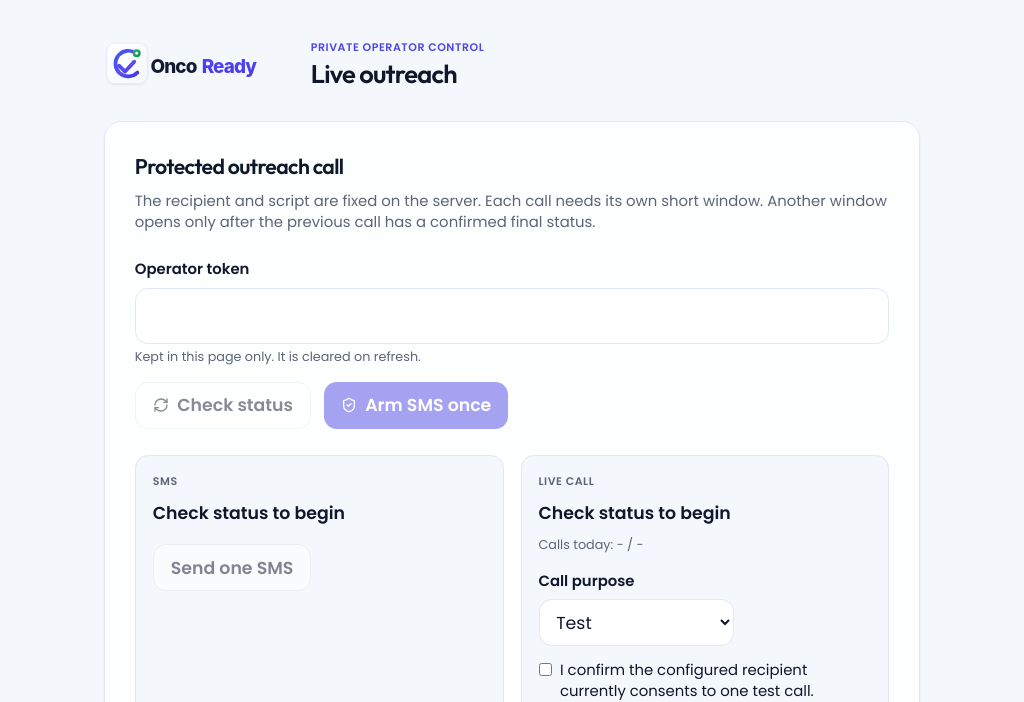
Test: private live call cue › treats a completed earlier test as history, not a cue to play Video Part 2
This screenshot has width=1024, height=702.
Type "test-token" into the password field labelled "Operator token". click: (512, 316)
box: [135,288,889,344]
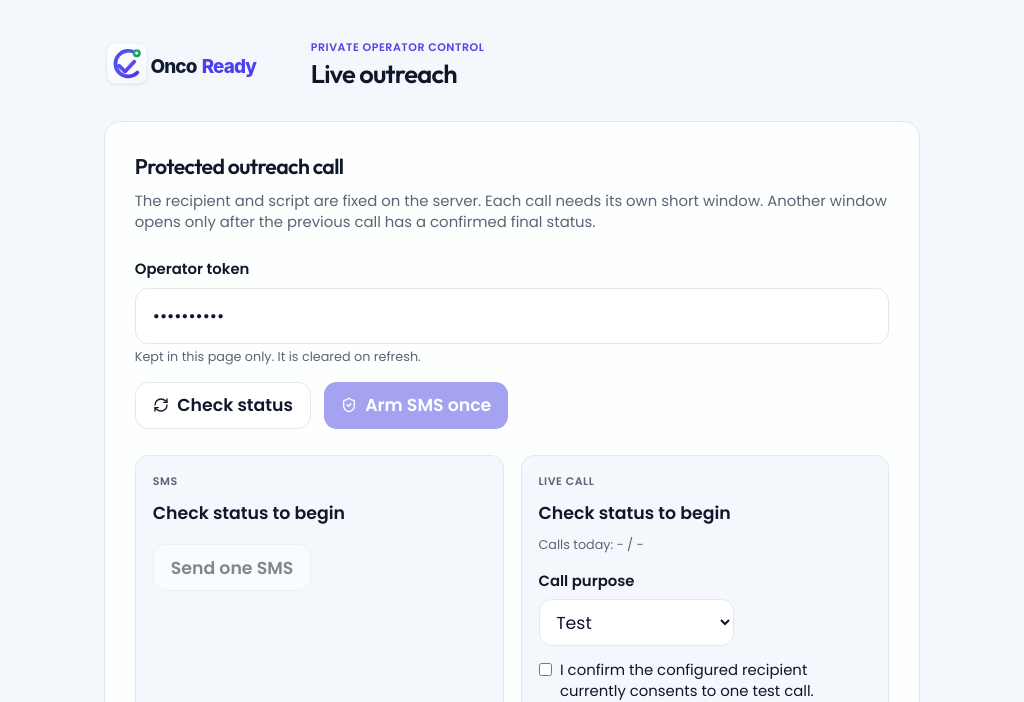
Click the button "Check status". click: (223, 406)
box: [135,382,311,429]
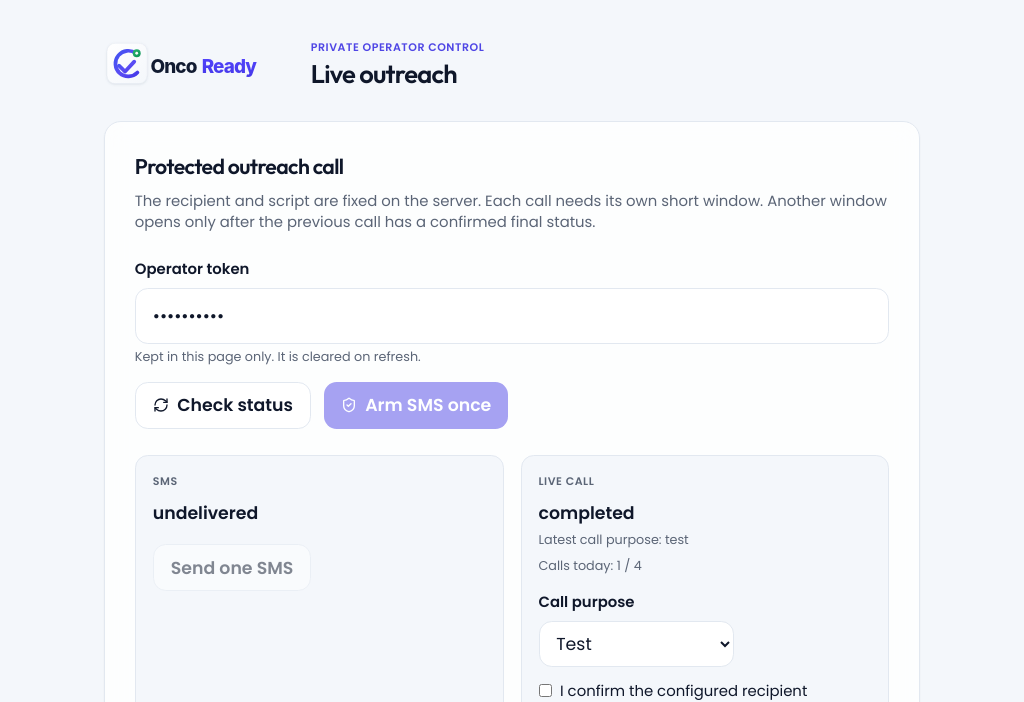
Click the checkbox labelled "configured recipient currently consents". click: (545, 691)
box: [538,684,552,697]
(page scrolled)
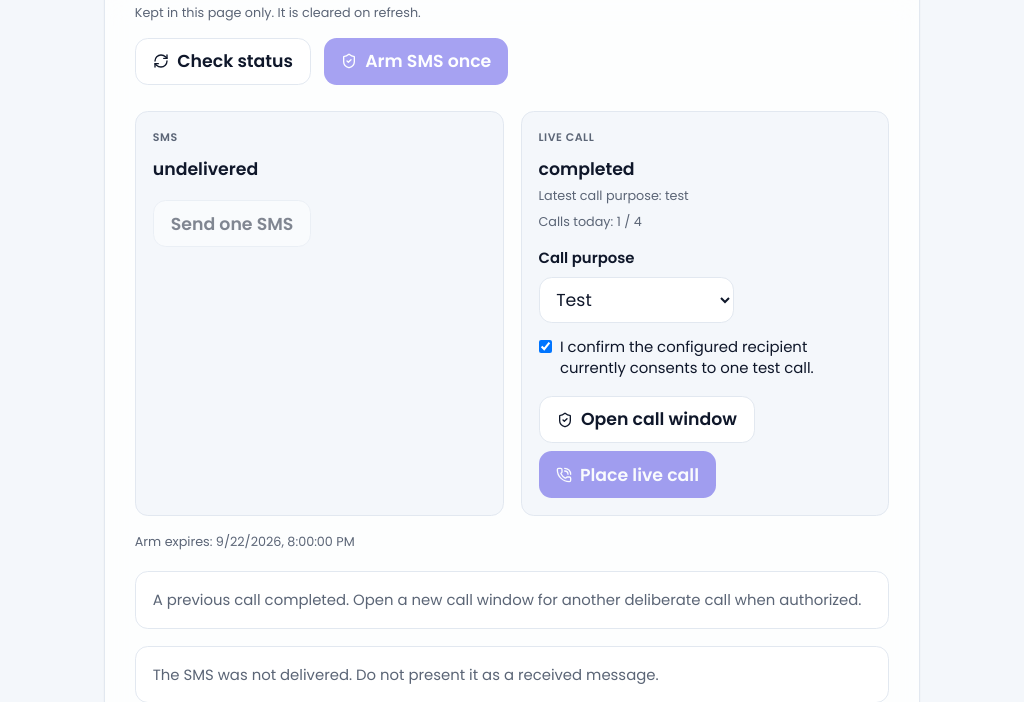
expect the button "Open call window" is enabled: met, box [538,396,755,443]
